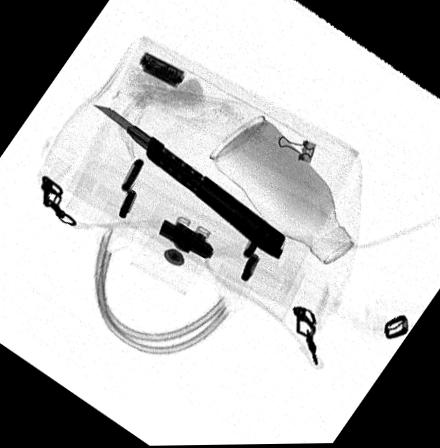Knife: (89, 102, 286, 260)
